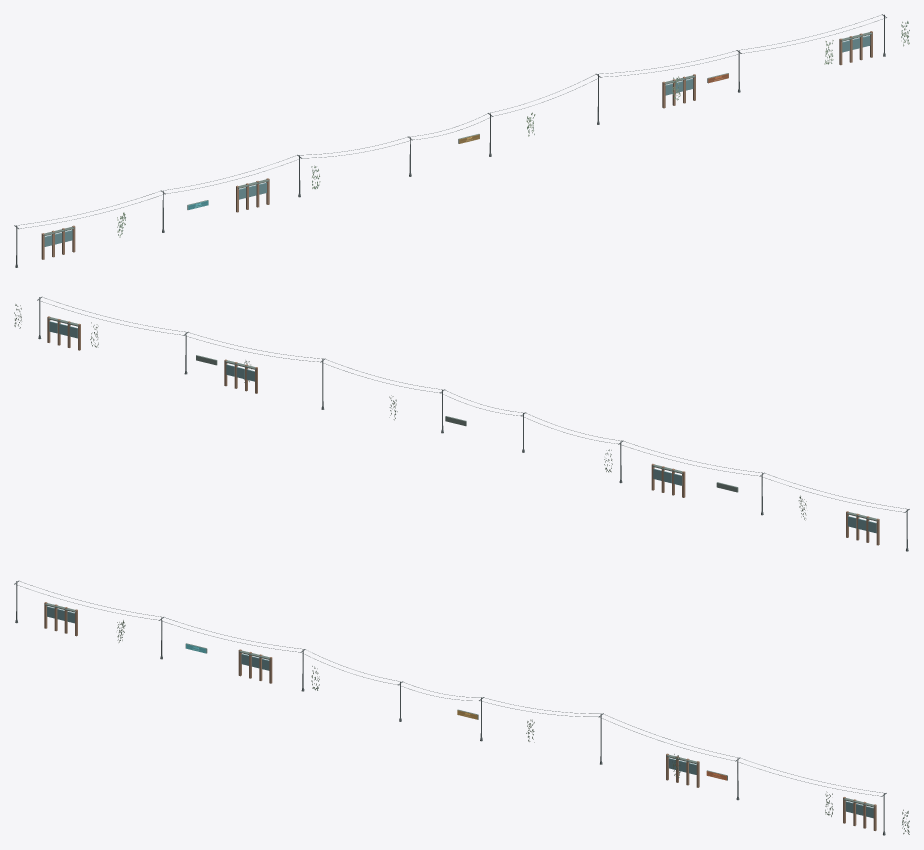
File: quay-fronts.glb
3 views of the same model, one above another, from view 1: azimuth 30°, elevation 25°; view 2: azimuth 150°, elevation 25°; view 3: azimuth 330°, elevation 25° (orthographic).
Parts seen in each view (by area): view 1: quay-fronts; view 2: quay-fronts; view 3: quay-fronts.
Boxes of the visible parts, x1=… form: quay-fronts: x1=14, y1=14, x2=909, y2=267; quay-fronts: x1=14, y1=296, x2=909, y2=551; quay-fronts: x1=14, y1=580, x2=909, y2=835.
Bounding box in the file's own units: 129 × 6.9 × 2.92.
11 materials, 3 textured.
